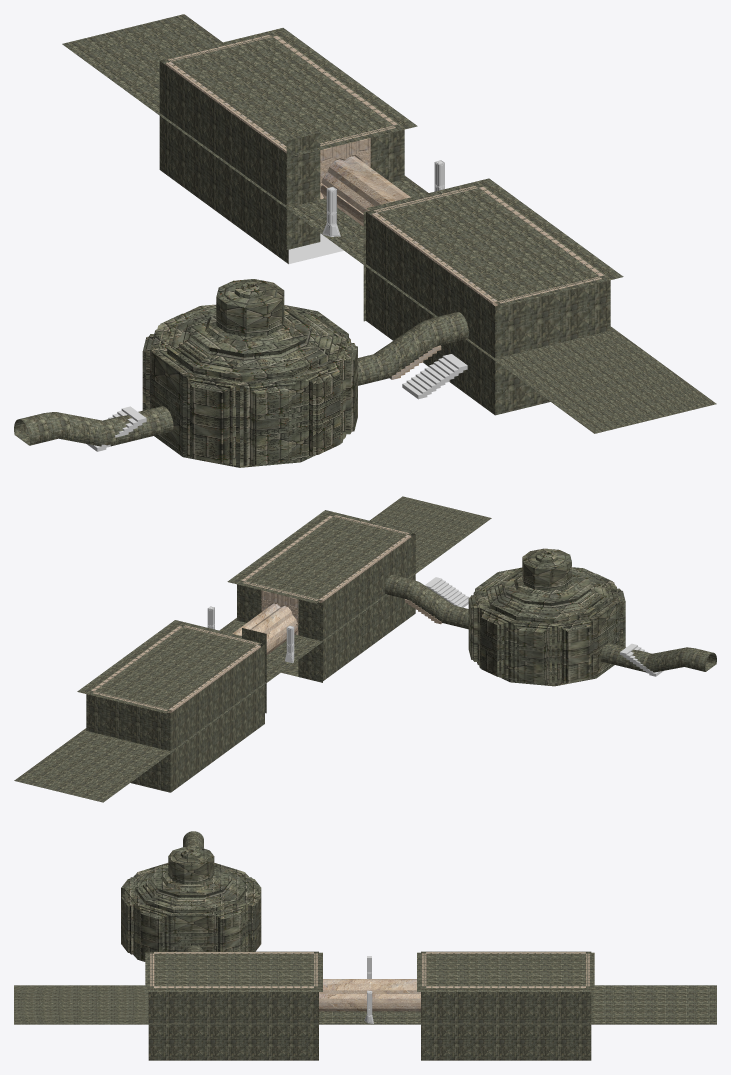
Rendered from Temple.fbx.
The picture shows the model from 3 angles, top to bottom: view 1: azimuth 30°, elevation 25°; view 2: azimuth 150°, elevation 25°; view 3: azimuth 270°, elevation 25°; orthographic projection. The views are drawn at different scales.
Visible parts, largest first — view 1: Cube.020, Pedestal room, Cube.006, Cube.008, Cube.005, Cube.007; view 2: Cube.020, Pedestal room, Cube.006, Cube.008, Cube.005, Cube.007; view 3: Cube.020, Pedestal room, Cube.006.
Boxes of the visible parts, x1,y1,x2,y2 form: Cube.020: (62, 14, 623, 415); Pedestal room: (142, 279, 357, 467); Cube.006: (465, 326, 716, 433); Cube.008: (14, 406, 173, 446); Cube.005: (358, 312, 468, 385); Cube.007: (402, 354, 467, 399); Cube.020: (14, 510, 415, 802); Pedestal room: (468, 548, 625, 686); Cube.006: (369, 496, 491, 578); Cube.008: (600, 643, 716, 672); Cube.005: (384, 574, 468, 629); Cube.007: (424, 577, 468, 607); Cube.020: (145, 951, 716, 1060); Pedestal room: (121, 847, 261, 961); Cube.006: (14, 985, 190, 1024).
Size of the model in its own units: 299 by 79.9 by 489.
